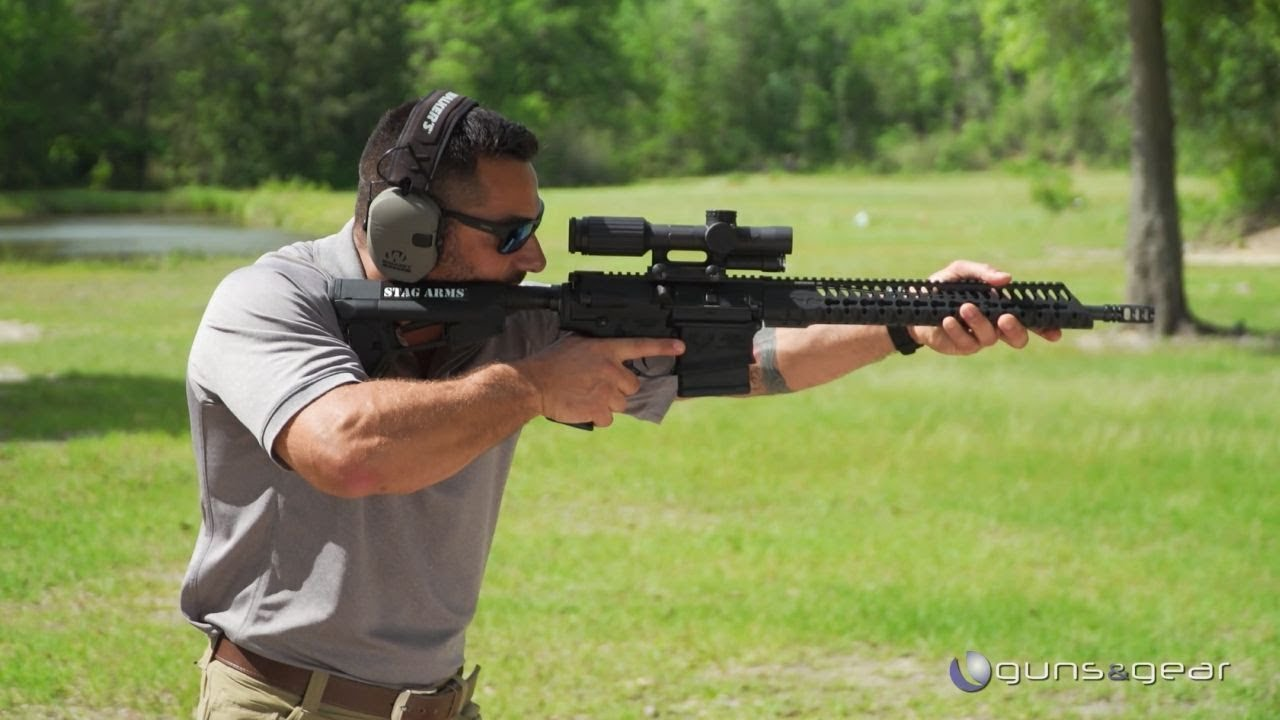Gun: (562, 203, 1103, 367)
